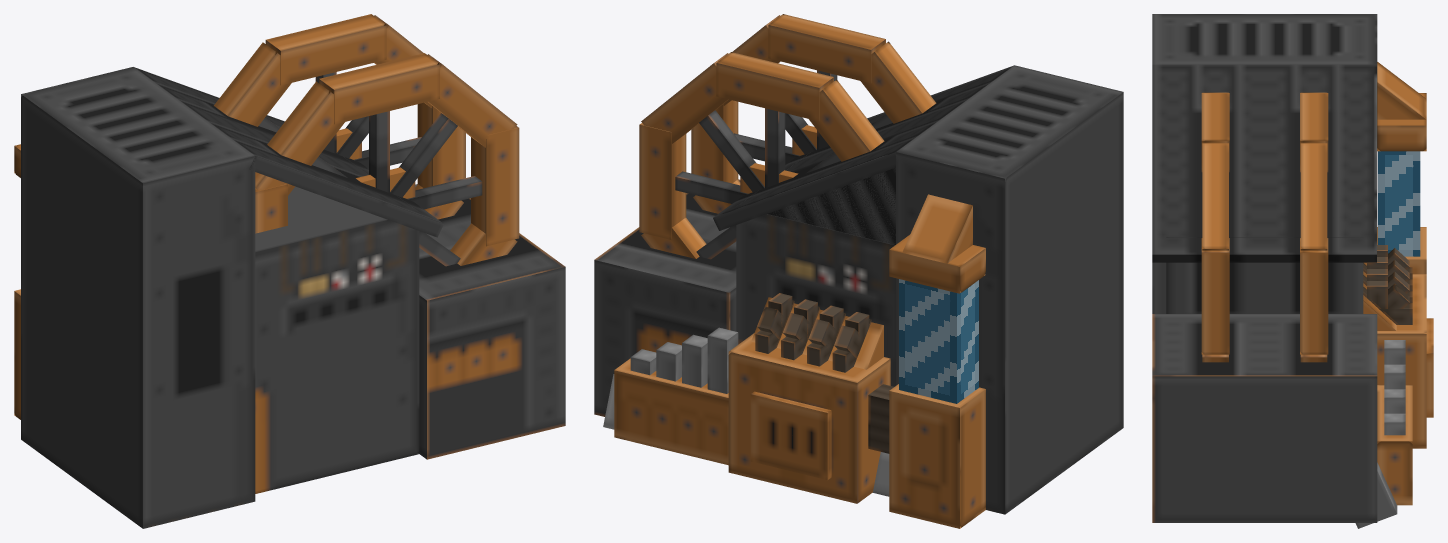
File: ResourceGen.fbx
The picture shows the model from 3 angles, left to right: view 1: azimuth 30°, elevation 25°; view 2: azimuth 150°, elevation 25°; view 3: azimuth 270°, elevation 25°; orthographic projection. The views are drawn at different scales.
Parts seen in each view (by area): view 1: cube_67, cube_68, cube_69, cube_71, cube_87, cube_74, cube_81, cube_79, cube_92, cube_78, cube_94, cube_84 (+9 smaller); view 2: cube_67, cube_69, cube_68, cube_100, cube_108, cube_127, cube_102, cube_71, Door, cube_74, cube_87, cube_70 (+21 smaller); view 3: cube_69, cube_71, cube_67, cube_68, cube_127, cube_100, cube_94, cube_81, cube_91, cube_78, cube_102, cube_110 (+14 smaller).
Boxes of the visible parts, x1,y1,x2,y2 form: cube_67: (21,67,255,528); cube_68: (255,157,419,493); cube_69: (415,184,565,459); cube_71: (134,67,443,237); cube_87: (265,14,386,85); cube_74: (319,53,439,124); cube_81: (471,126,519,246); cube_79: (255,81,344,195); cube_92: (214,42,291,126); cube_78: (428,54,517,147); cube_94: (417,102,465,188); cube_84: (390,113,457,197); cube_67: (896,65,1123,514); cube_69: (594,179,740,416); cube_68: (736,155,1006,386); cube_100: (728,333,890,503); cube_108: (889,384,985,528); cube_127: (899,279,978,403); cube_102: (614,358,728,465); cube_71: (713,65,1013,230); Door: (750,391,831,479); cube_74: (768,14,885,83); cube_87: (716,52,833,121); cube_70: (767,167,895,245); cube_69: (1152,314,1377,522); cube_71: (1152,64,1376,262); cube_67: (1152,14,1377,313); cube_68: (1166,237,1363,313); cube_127: (1378,151,1420,256); cube_100: (1377,274,1426,448); cube_94: (1300,238,1328,354); cube_81: (1201,238,1229,354); cube_91: (1300,143,1327,250); cube_78: (1202,143,1228,250); cube_102: (1377,385,1412,505); cube_110: (1377,62,1426,119).
Size of the model in its own units: 400 by 346 by 250.
